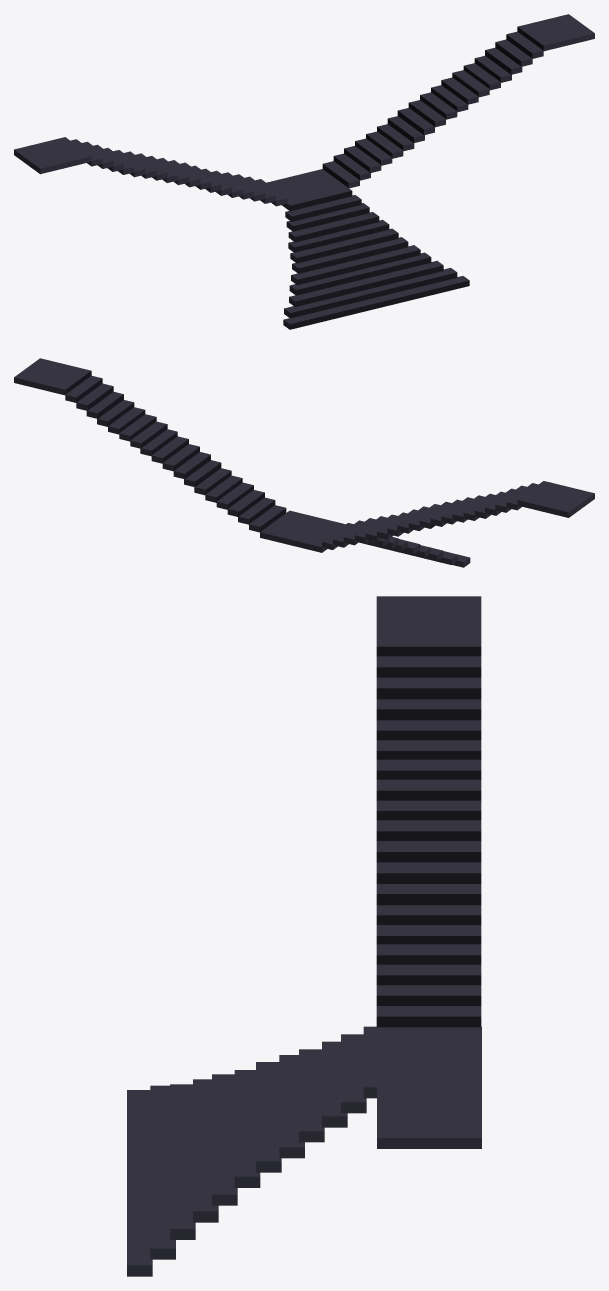
Rendered from Ballroom_staircase_bigger.fbx.
The picture shows the model from 3 angles, top to bottom: view 1: azimuth 30°, elevation 25°; view 2: azimuth 150°, elevation 25°; view 3: azimuth 270°, elevation 25°; orthographic projection. The views are drawn at different scales.
Visible parts, largest first — view 1: polySurface71; view 2: polySurface71; view 3: polySurface71.
Boxes of the visible parts, x1,y1,x2,y2 form: polySurface71: (14,14,594,329); polySurface71: (14,358,594,567); polySurface71: (127,596,481,1276).
Size of the model in its own units: 137 by 37.89 by 37.86.
Materials: 1 (1 with a texture image).
